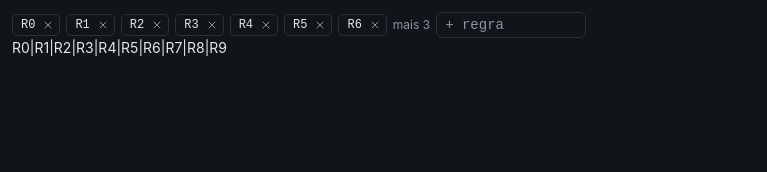
Test: past the limit the rest collapse to mais N, which opens them and then reads menos (#536)
Click the button "mais 3" at [411, 25], box [393,17,430,33]
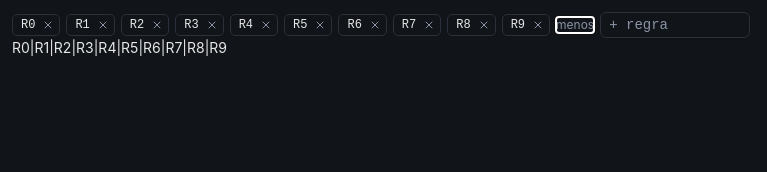
Result: the text "R9" is shown at [502,14,550,36]
Result: the button "menos" is expanded at [556,17,594,33]
